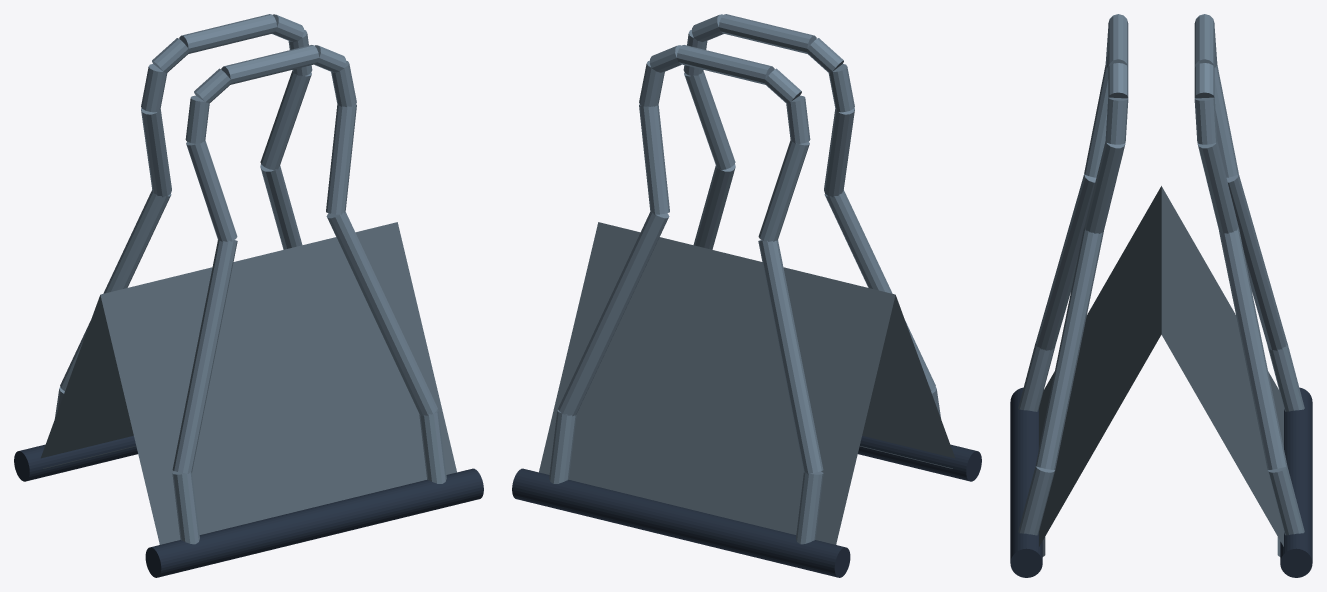
File: binder.glb
3 renders of one model, left to right at view 1: azimuth 30°, elevation 25°; view 2: azimuth 150°, elevation 25°; view 3: azimuth 270°, elevation 25°, orthographic. The views are drawn at different scales.
Visible parts, largest first — view 1: fold 0, front lip, fold 1, wire 11, wire 19, rear lip, wire -11, wire 18, wire 12, wire -18, wire -15, wire 15 (+9 smaller); view 2: fold 1, rear lip, fold 0, wire -11, wire -19, front lip, wire 11, wire -18, wire -12, wire 18, wire 15, wire -15 (+9 smaller); view 3: fold 0, fold 1, wire -19, wire 19, rear lip, front lip, wire -11, wire 11, wire -18, wire 18, wire -110, wire 110 (+10 smaller).
Boxes of the visible parts, x1,y1,x2,y2 form: fold 0: [100, 222, 456, 544]; front lip: [145, 468, 483, 577]; fold 1: [41, 295, 133, 458]; wire 11: [172, 240, 237, 473]; wire 19: [326, 211, 437, 416]; rear lip: [14, 436, 137, 481]; wire -11: [60, 190, 171, 391]; wire 18: [326, 104, 356, 214]; wire 12: [186, 140, 237, 241]; wire -18: [260, 70, 311, 169]; wire -15: [179, 14, 276, 53]; wire 15: [221, 45, 319, 84]; fold 1: [539, 222, 895, 544]; rear lip: [512, 468, 850, 577]; fold 0: [862, 295, 954, 458]; wire -11: [758, 240, 823, 473]; wire -19: [558, 211, 669, 416]; front lip: [858, 436, 981, 481]; wire 11: [824, 190, 935, 391]; wire -18: [639, 104, 669, 214]; wire -12: [758, 140, 809, 241]; wire 18: [684, 70, 735, 169]; wire 15: [719, 14, 816, 53]; wire -15: [676, 45, 774, 84]; fold 0: [1039, 186, 1161, 546]; fold 1: [1161, 186, 1283, 546]; wire -19: [1219, 228, 1287, 469]; wire 19: [1035, 228, 1103, 469]; rear lip: [1280, 387, 1312, 577]; front lip: [1010, 387, 1042, 577]; wire -11: [1226, 174, 1287, 350]; wire 11: [1035, 174, 1096, 350]; wire -18: [1197, 141, 1238, 233]; wire 18: [1084, 141, 1125, 233]; wire -110: [1267, 466, 1304, 535]; wire 110: [1018, 466, 1055, 535].
Size of the model in its own units: 1.02 by 1.36 by 0.806.
